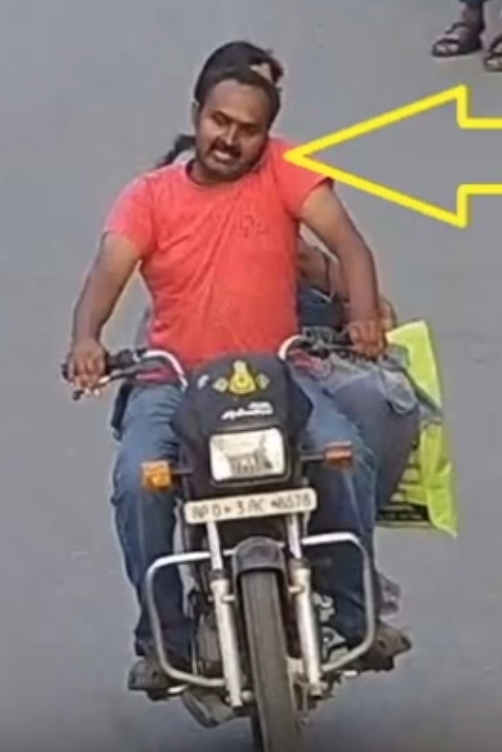h_bike: (86, 37, 425, 752)
h_nohelmet: (188, 69, 279, 180)
numplate: (179, 485, 324, 531)
